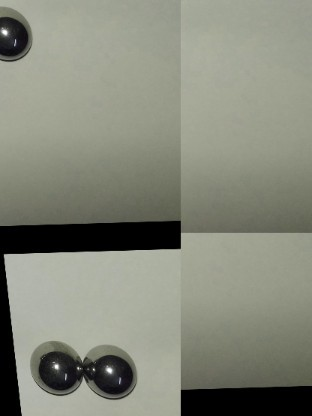ironball: (87, 334, 143, 400), (27, 335, 82, 395), (0, 4, 37, 59)
